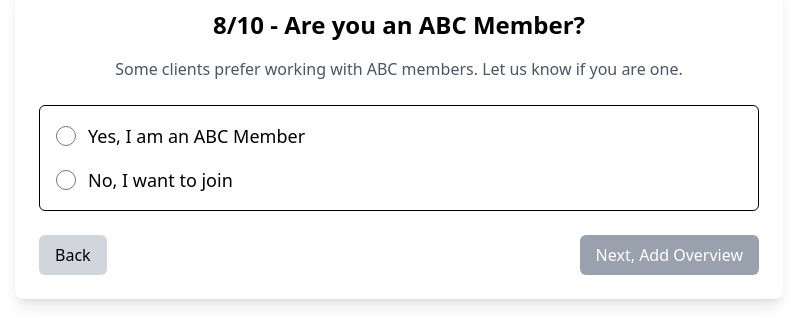
Test case: Step12 Component › enables Next button after selection
This screenshot has width=799, height=325.
What coordinates should you click on to do the following:
click the radio button labelled "Yes, I am an ABC Member"
I would click on:
 (66, 136)
Its box is [56,126,76,146].
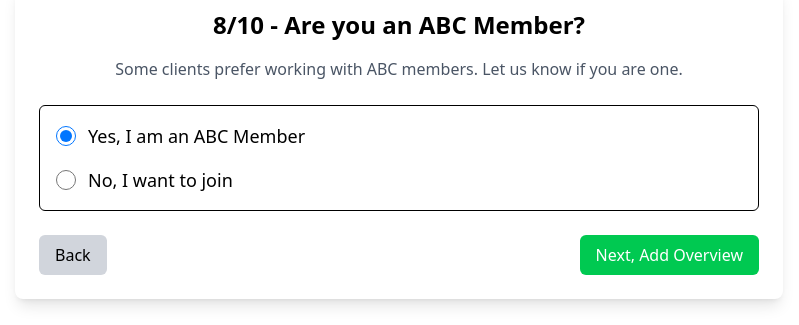
Check: the button "Next, Add Overview" is enabled, box [580,235,759,275]
